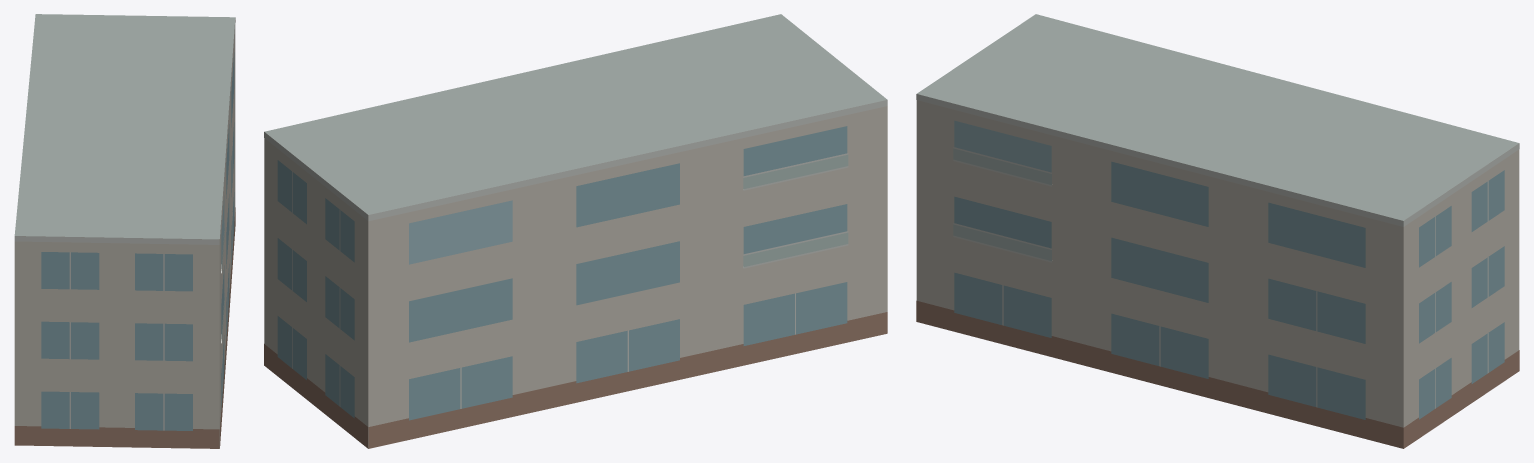
The model's file is survey-upis-32623231.glb.
3 views of the same model, side by side, from view 1: azimuth 30°, elevation 25°; view 2: azimuth 150°, elevation 25°; view 3: azimuth 270°, elevation 25° (orthographic). The views are drawn at different scales.
Parts seen in each view (by area): view 1: survey-upis-32623231.tmp; view 2: survey-upis-32623231.tmp; view 3: survey-upis-32623231.tmp.
Part boxes in pixels (box(x1,y1,x2,y2)): survey-upis-32623231.tmp: box(14, 14, 235, 448); survey-upis-32623231.tmp: box(264, 14, 887, 448); survey-upis-32623231.tmp: box(916, 14, 1519, 448).
Size of the model in its own units: 17.82 by 9.15 by 21.94.
